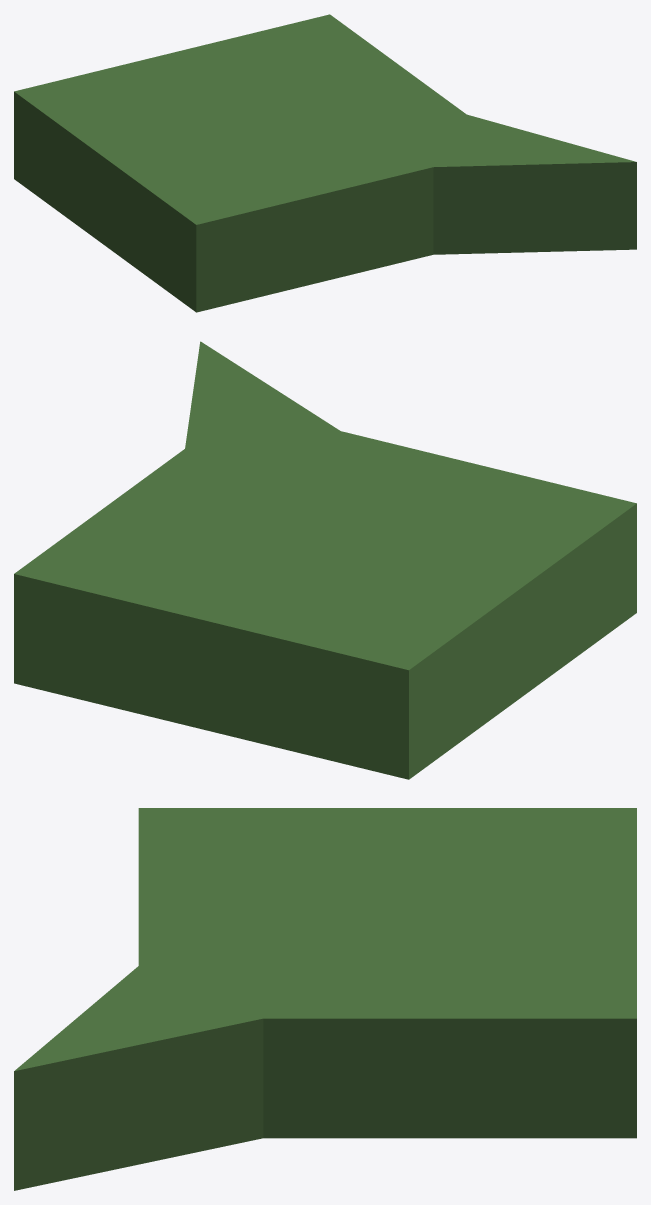
File: corner_grass.glb
3 renders of one model, top to bottom at view 1: azimuth 30°, elevation 25°; view 2: azimuth 150°, elevation 25°; view 3: azimuth 270°, elevation 25°, orthographic. The views are drawn at different scales.
Parts seen in each view (by area): view 1: corner_grass; view 2: corner_grass; view 3: corner_grass.
Boxes of the visible parts, bbox=[...] form: corner_grass: bbox=[14, 14, 636, 312]; corner_grass: bbox=[14, 341, 636, 779]; corner_grass: bbox=[14, 808, 636, 1190].
Bounding box in the file's own units: 0.5 × 0.106 × 0.5.
